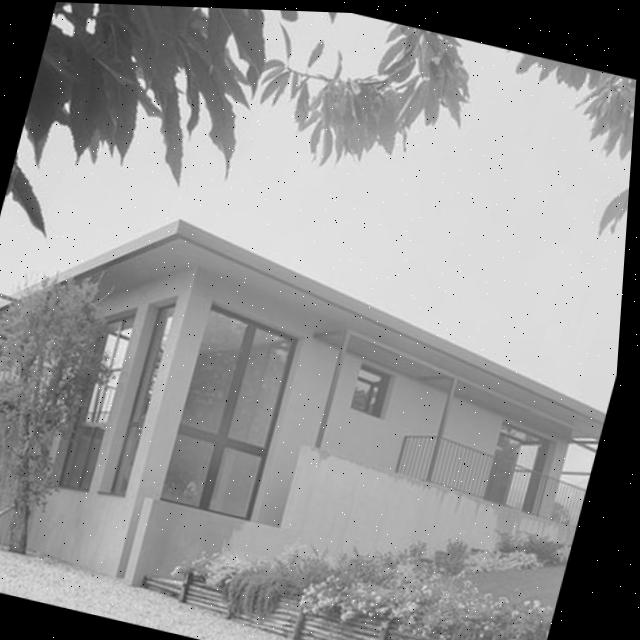building: (0, 178, 628, 640)
